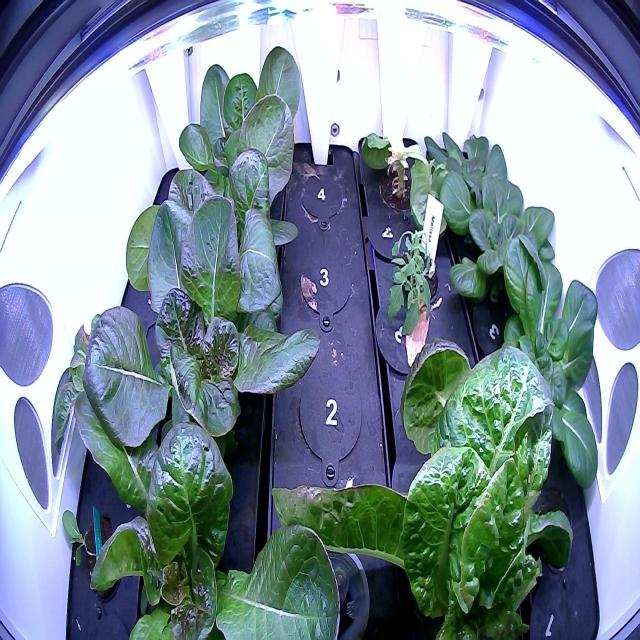empty_pod: (292, 358, 367, 467), (294, 240, 355, 331), (296, 169, 346, 232)
young: (55, 381, 347, 639), (75, 183, 329, 459), (454, 229, 607, 498), (124, 99, 305, 319), (171, 28, 308, 206), (436, 156, 572, 307), (418, 115, 512, 207)
